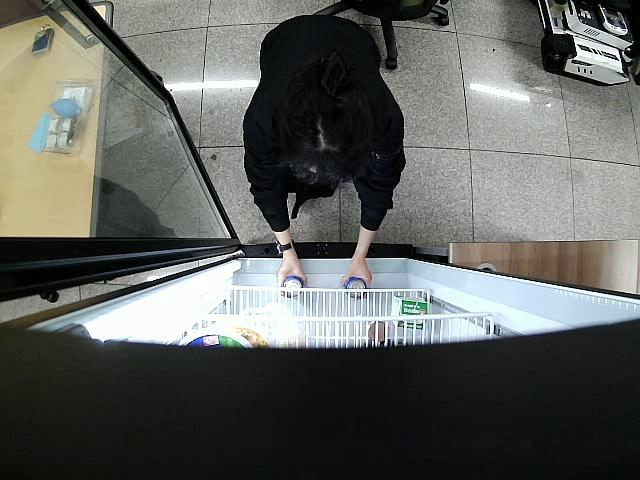00_hand: (277, 259, 308, 298), (339, 263, 373, 295)
13_pocariSweat: (343, 273, 367, 300), (281, 275, 304, 295)
